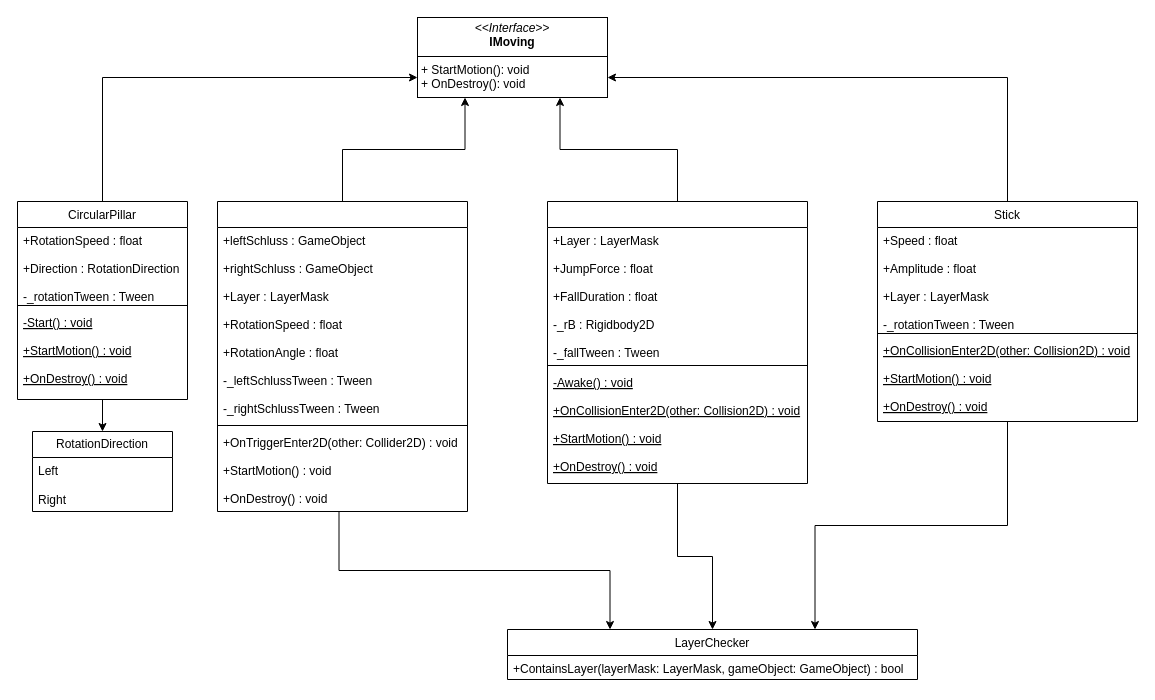
This 1155x700 diagram has some shape labels left out. The shapes that lost their labels are listed below. From the top down, each one's box as (x1, y1, x2, y2) in pixels, then its label:
(216, 200, 468, 512): SchlussOpener
(546, 200, 808, 484): FallingStick
